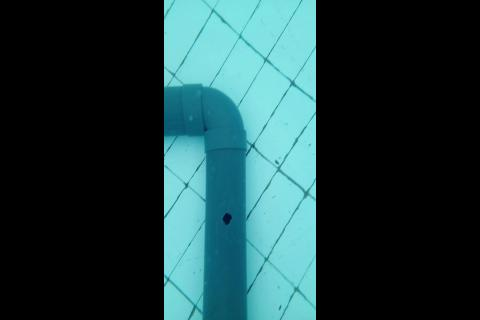kebocoran: (220, 211, 233, 226)
